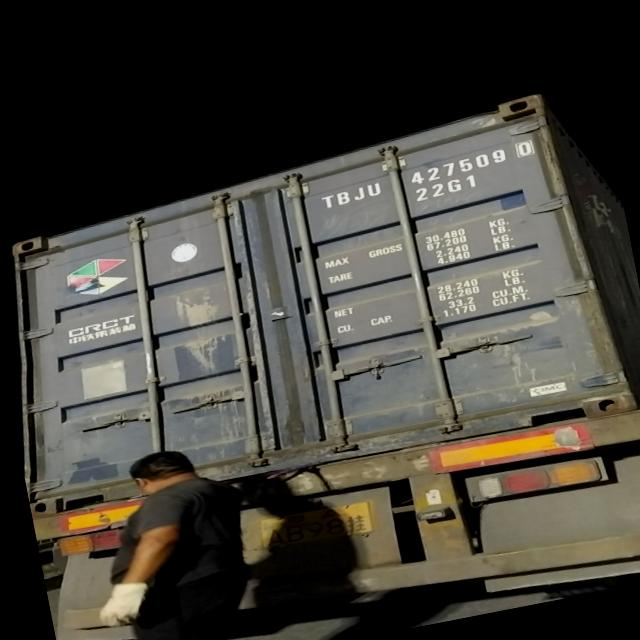seal: (366, 355, 390, 384)
